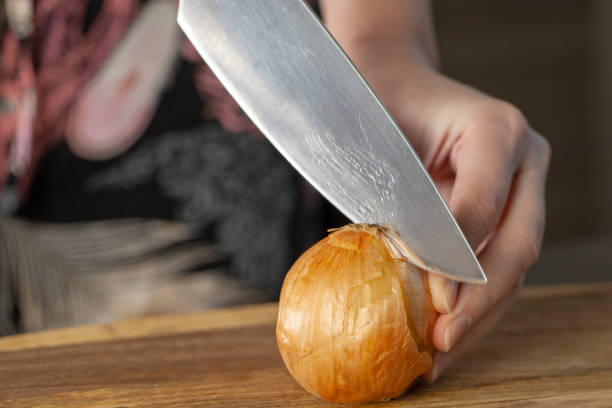knife: (173, 0, 490, 287)
